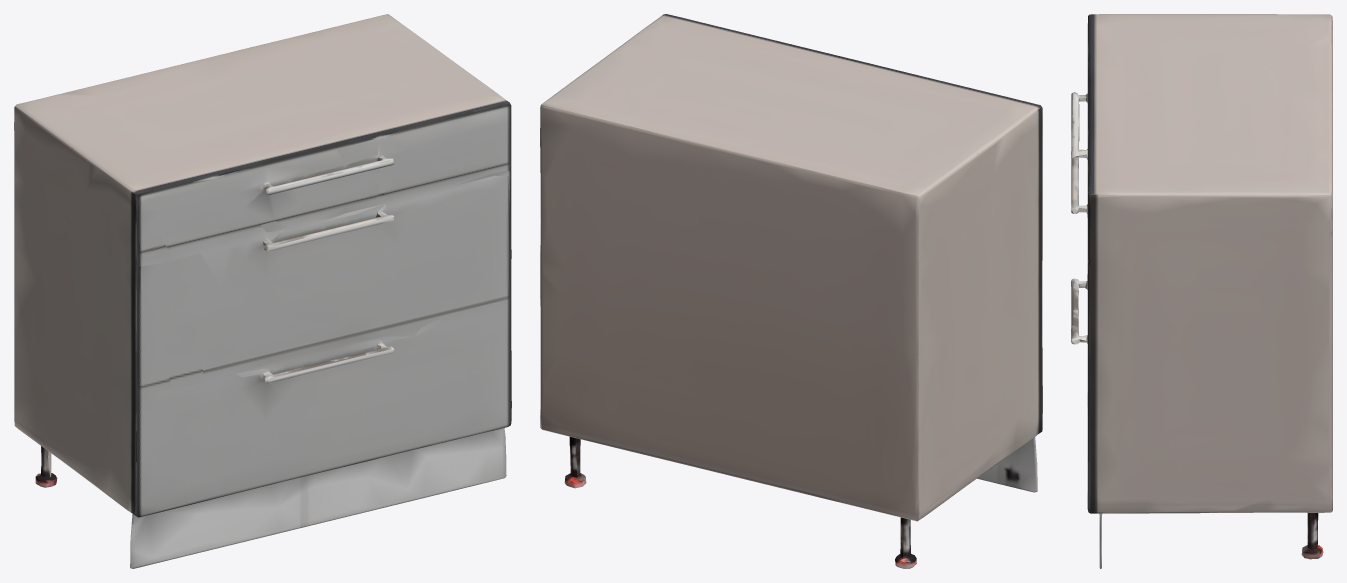
Rendered from PlanCuisine4_3D_textured.glb.
3 views of the same model, side by side, from view 1: azimuth 30°, elevation 25°; view 2: azimuth 150°, elevation 25°; view 3: azimuth 270°, elevation 25° (orthographic). The views are drawn at different scales.
Visible parts, largest first — view 1: temp_mesh.ply; view 2: temp_mesh.ply; view 3: temp_mesh.ply.
Boxes of the visible parts, left/top/right/bottom form: temp_mesh.ply: left=14, top=14, right=511, bottom=568; temp_mesh.ply: left=540, top=14, right=1042, bottom=568; temp_mesh.ply: left=1071, top=14, right=1332, bottom=568.
Size of the model in its own units: 1.97 by 1.91 by 1.2.
1 material, 1 textured.
